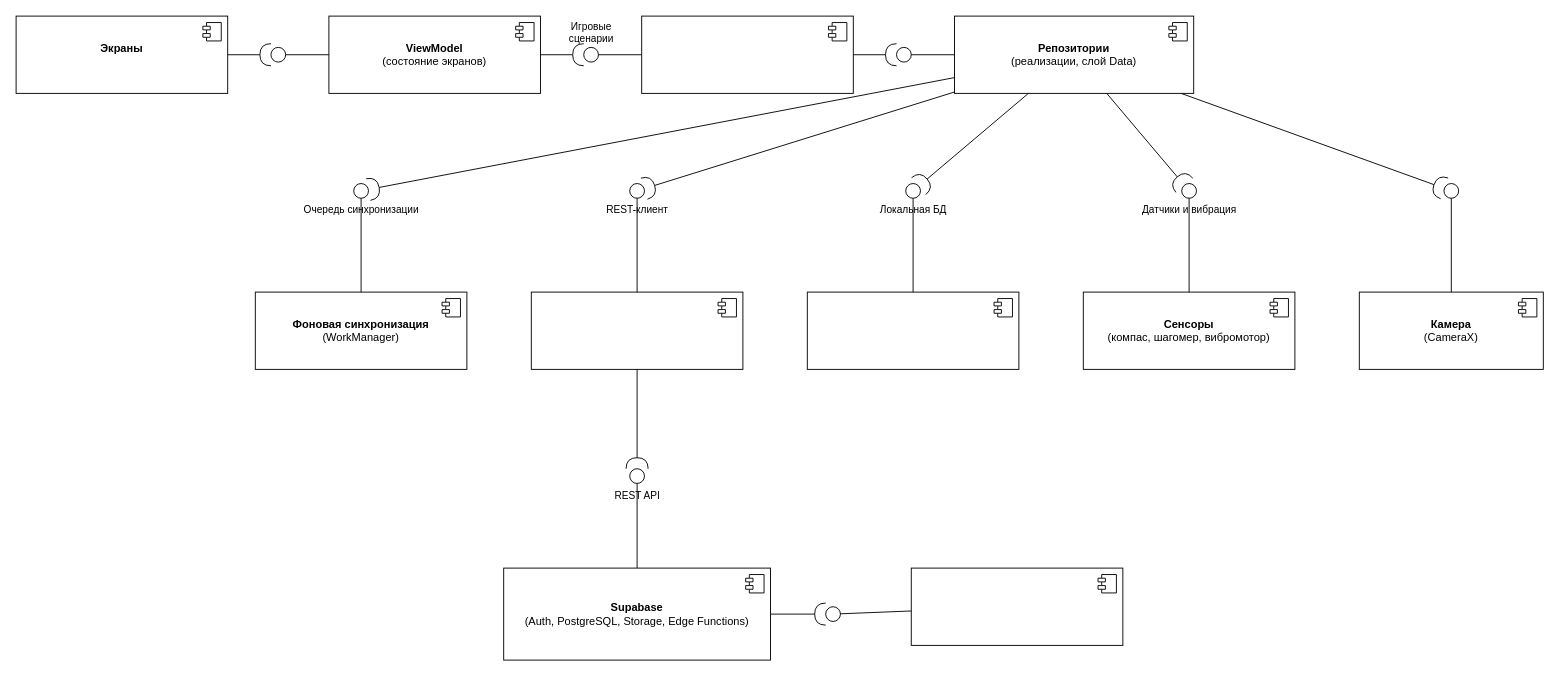
The diagram is 1559 pixels wide and 676 high, and some of its shapes have lost their labels. Each missing label, with the centre of its shape:
Groq / Gemini (языковые модели): [1016,606]
UiState: [278,54]
Use Cases (игровые сценарии): [747,54]
Интерфейсы репозиториев: [903,54]
Локальная БД (Room, DataStore): [912,330]
Сетевой клиент (Retrofit, OkHttp): [636,330]
Съёмка и предпросмотр: [1451,190]
